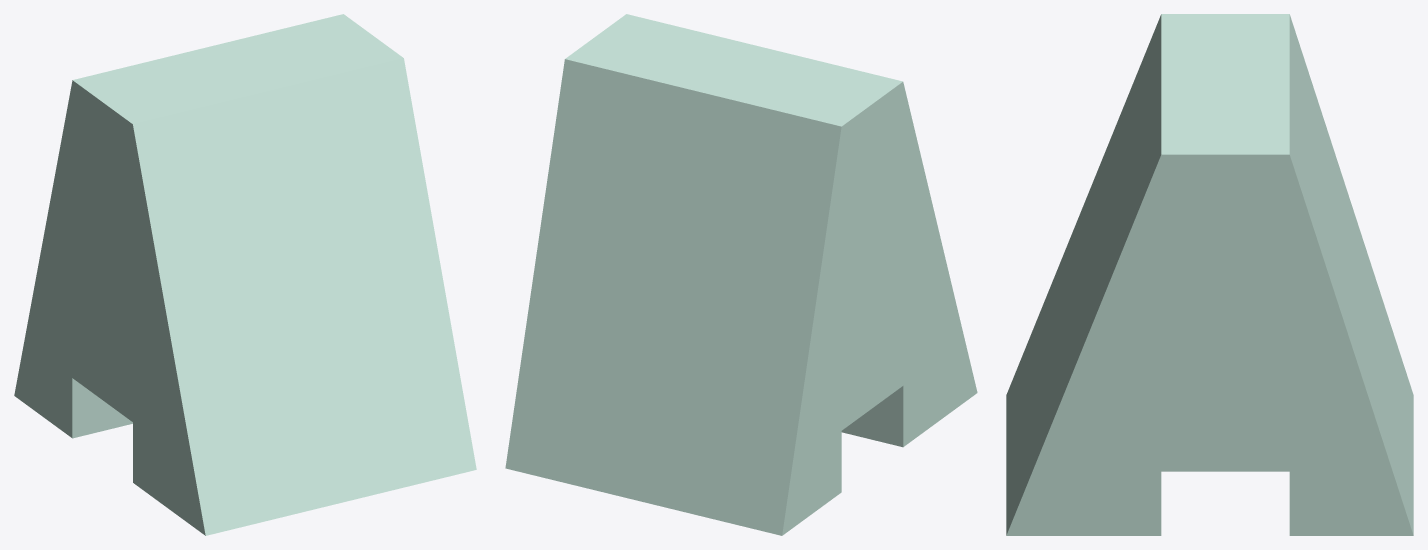
The picture shows the model from 3 angles, left to right: view 1: azimuth 30°, elevation 25°; view 2: azimuth 150°, elevation 25°; view 3: azimuth 270°, elevation 25°; orthographic projection. The views are drawn at different scales.
Parts seen in each view (by area): view 1: Renderer Node; view 2: Renderer Node; view 3: Renderer Node.
Boxes of the visible parts, bbox=[...] form: Renderer Node: bbox=[14, 14, 476, 535]; Renderer Node: bbox=[505, 14, 977, 535]; Renderer Node: bbox=[1006, 14, 1413, 535].
Bounding box in the file's own units: 0.5938 × 0.75 × 0.7263.
